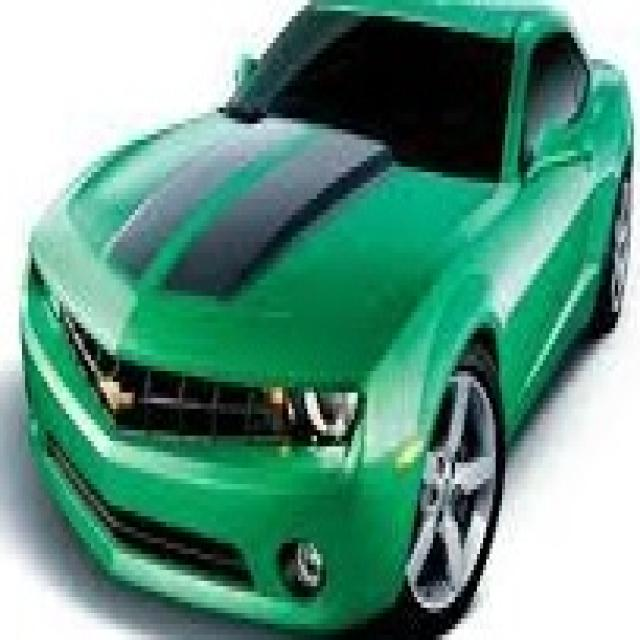green: (23, 0, 634, 639)
